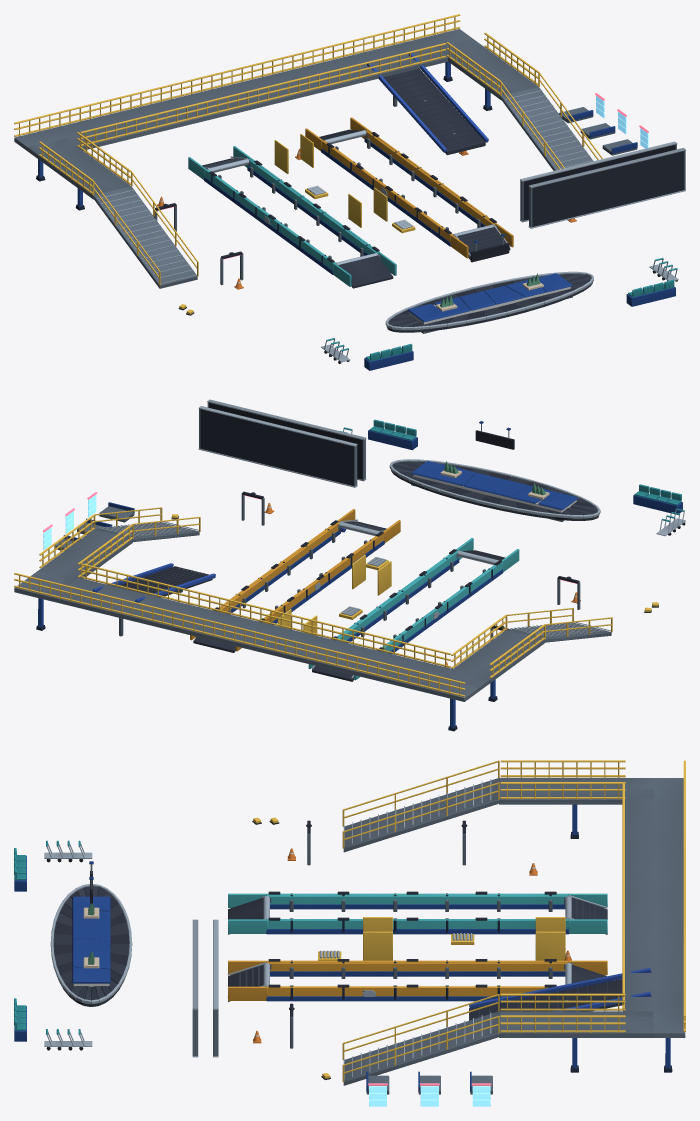
The model's file is sorter.glb.
The picture shows the model from 3 angles, top to bottom: view 1: azimuth 30°, elevation 25°; view 2: azimuth 150°, elevation 25°; view 3: azimuth 270°, elevation 25°; orthographic projection. The views are drawn at different scales.
Parts seen in each view (by area): view 1: sorter; view 2: sorter; view 3: sorter.
Boxes of the visible parts, x1=… form: sorter: x1=14, y1=14, x2=685, y2=370; sorter: x1=14, y1=399, x2=685, y2=731; sorter: x1=14, y1=760, x2=685, y2=1106.
Bounding box in the file's own units: 40.06 × 5.65 × 38.93.
